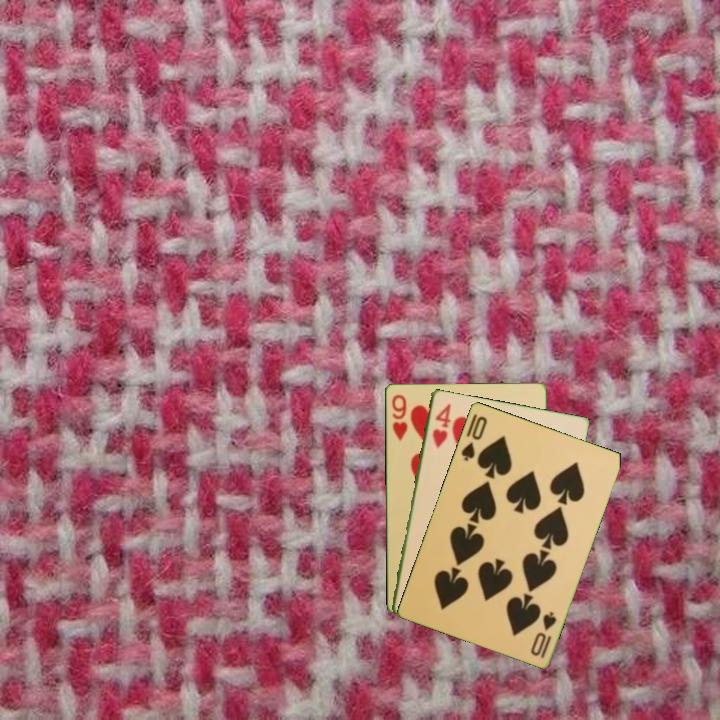10s: (527, 607, 559, 661), (457, 412, 490, 463)
4h: (428, 400, 453, 451)
9h: (388, 391, 410, 443)
